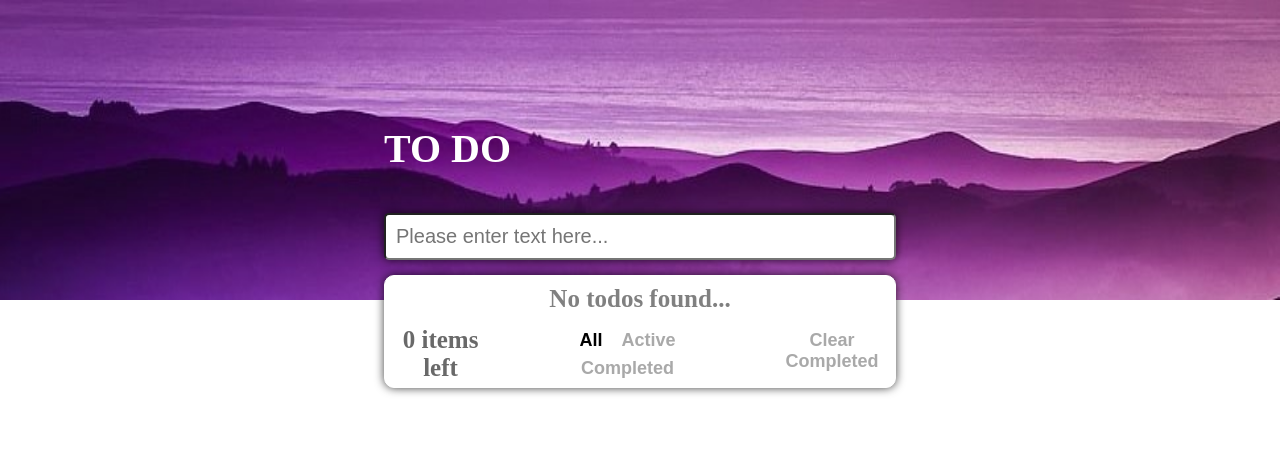
Test: to-do app e2e › with a checked task › can delete all completed tasks
In the field with test id "input-new-todo": (640, 237) [384,213,896,260], type "Todo item completed"
Then press Enter
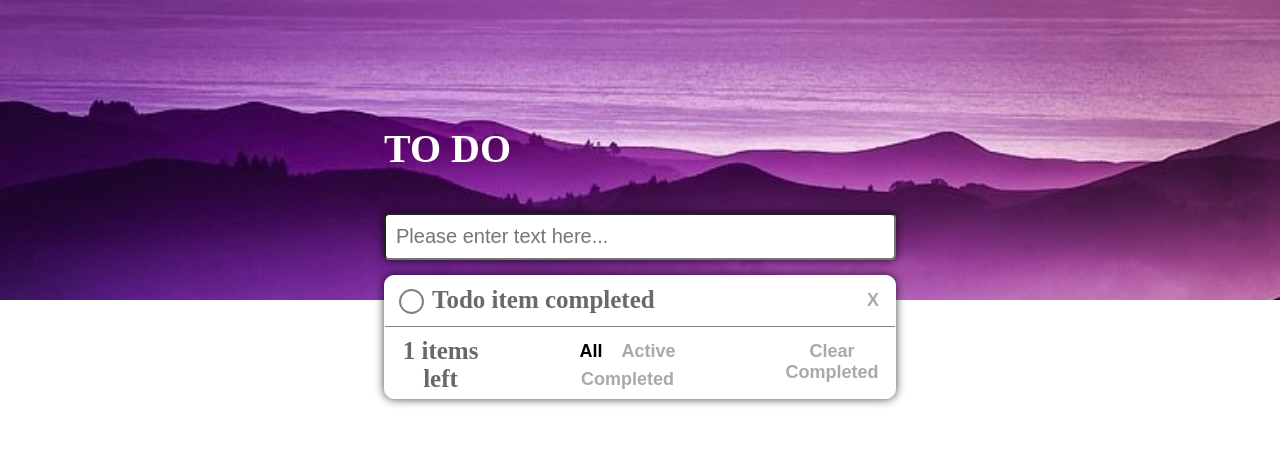
In the field with test id "input-new-todo": (640, 237) [384,213,896,260], type "Todo item active"
Then press Enter
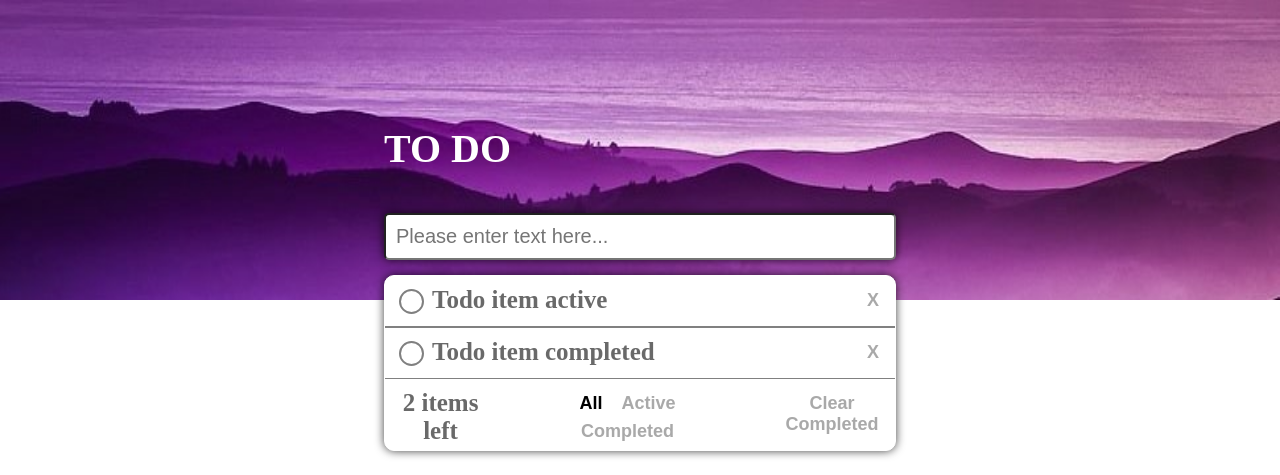
Check the 2nd checkbox: (412, 354) [399,341,424,366]
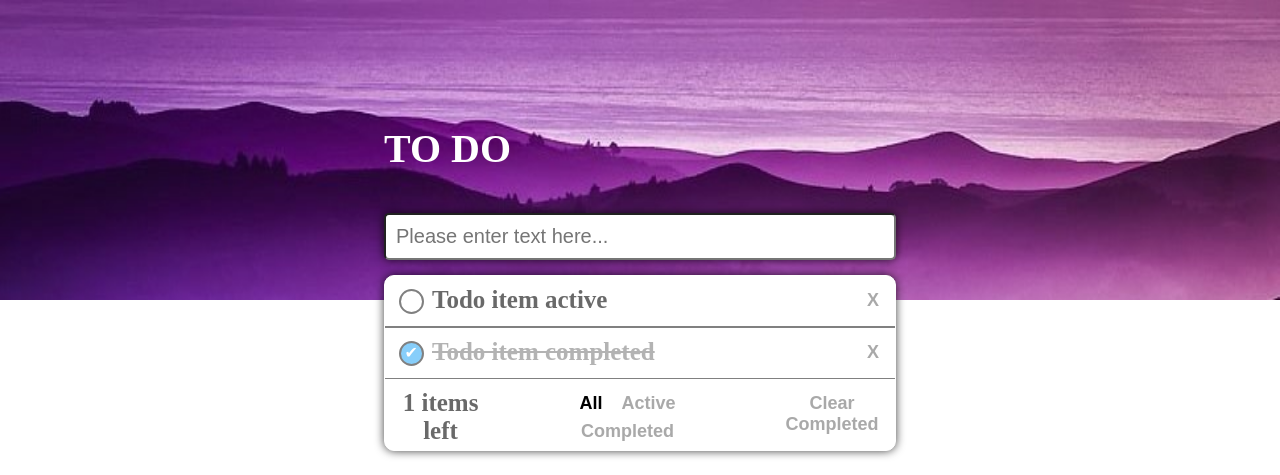
Click the button "Clear Completed": click(832, 419) [764,392,900,445]
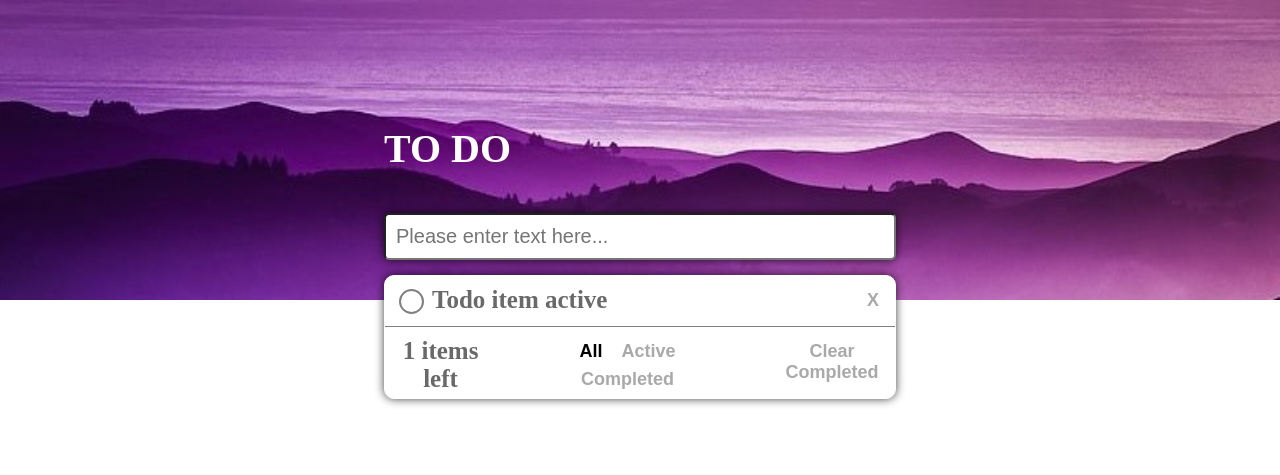
Expected: the button "Todo item completed" no longer shows "Todo item completed"
